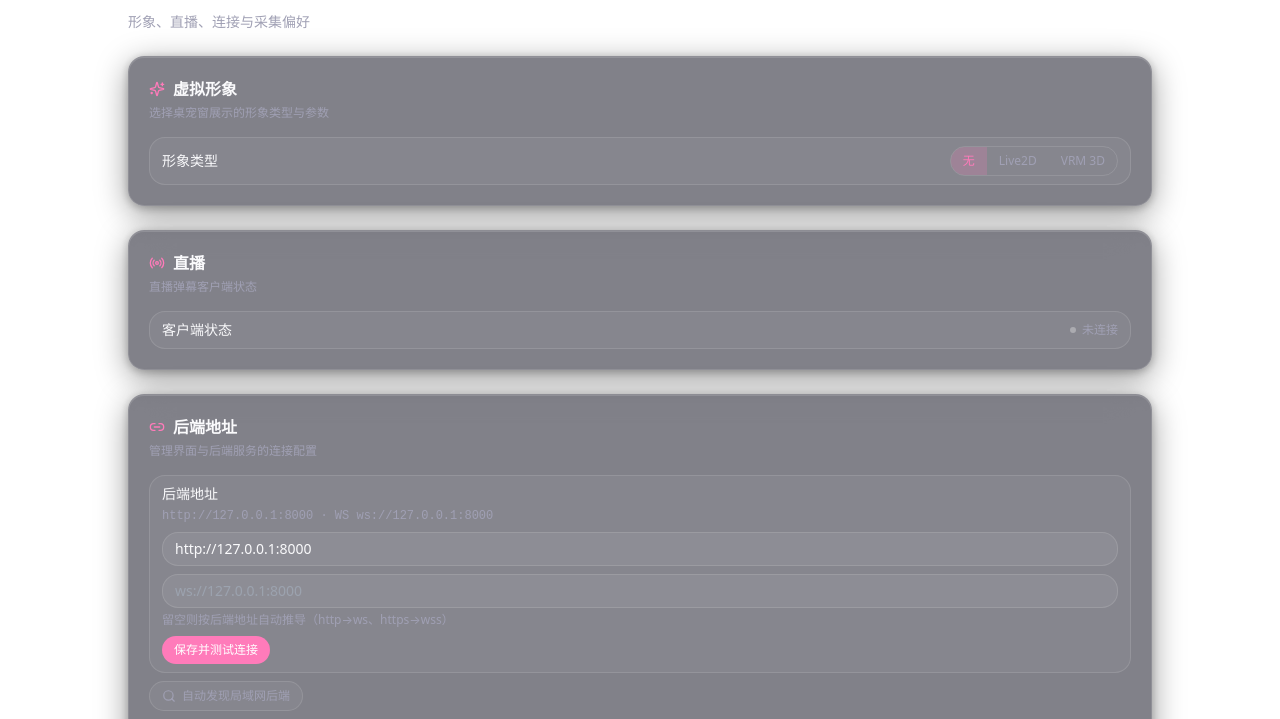
Test case: SettingsPage 五区块 › 切换头像类型即时写入 settingsStore 并显示对应参数区
The image size is (1280, 719).
Click the button "Live2D".
click(1018, 161)  # box [987, 147, 1049, 175]
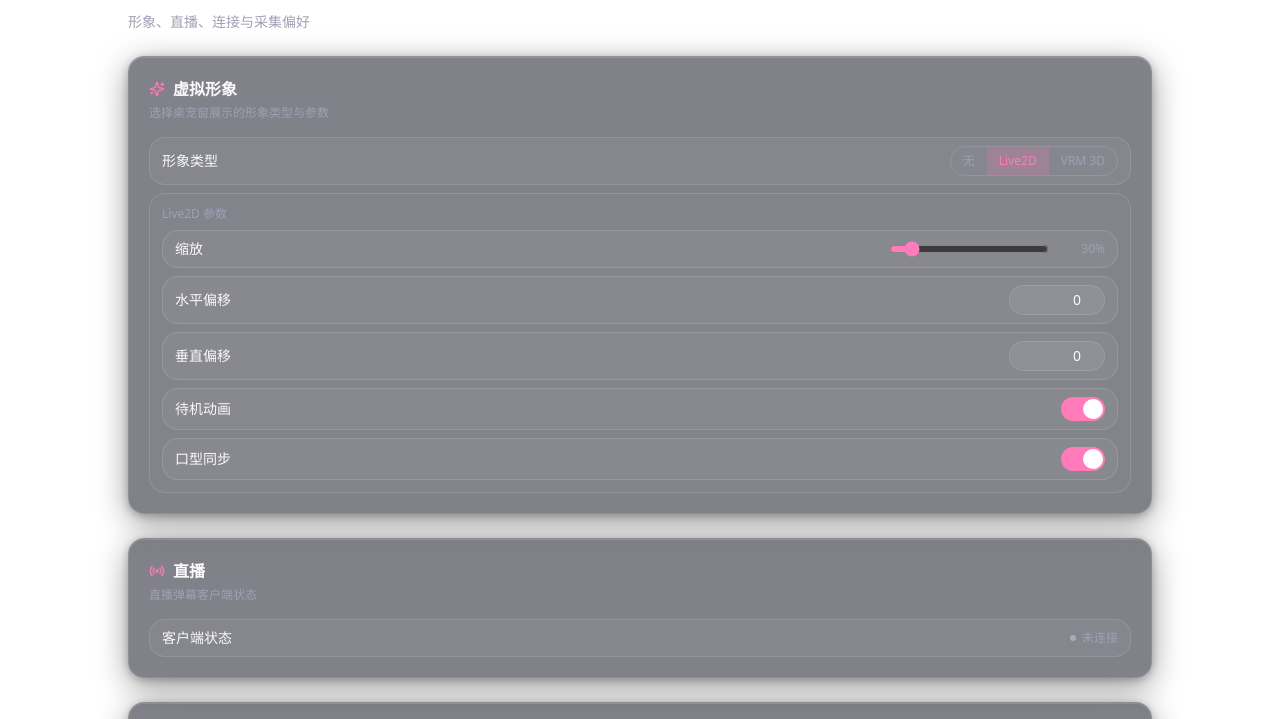
Now the heading "Live2D 参数" is shown, box [162, 205, 227, 222]
Click the button "VRM 3D".
click(1083, 161)  # box [1049, 147, 1117, 175]
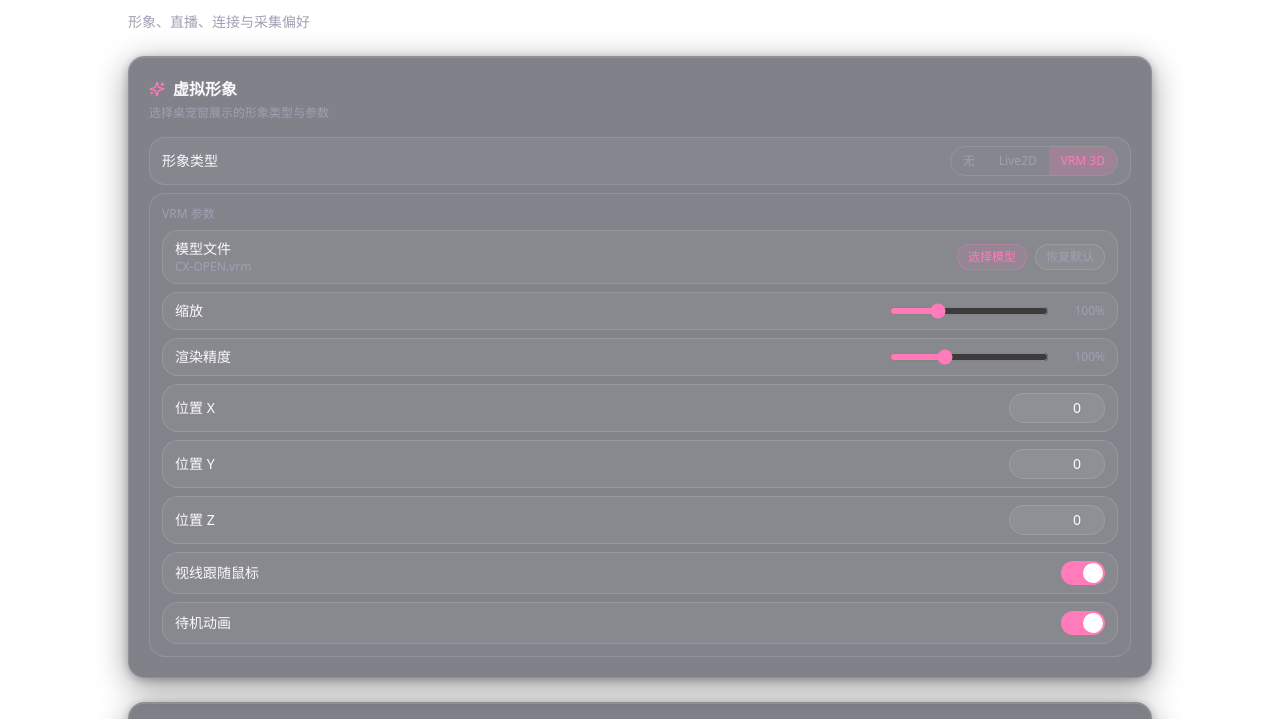
Now the heading "VRM 参数" is shown, box [162, 205, 215, 222]
